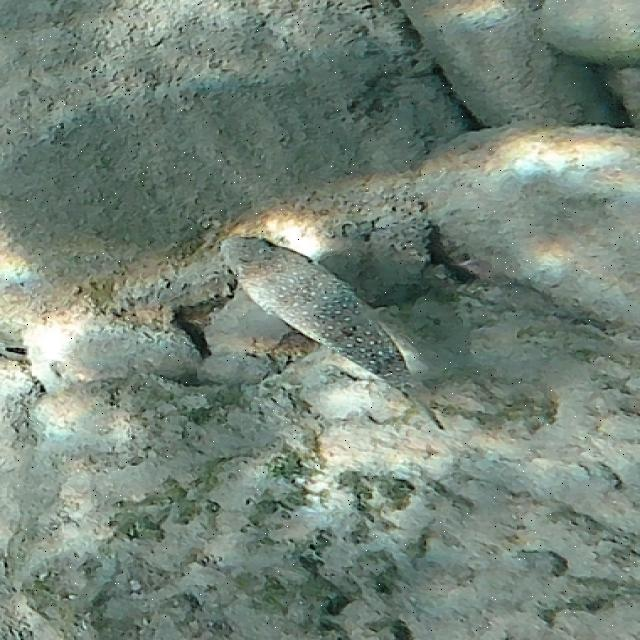Balik: (221, 237, 409, 385)
